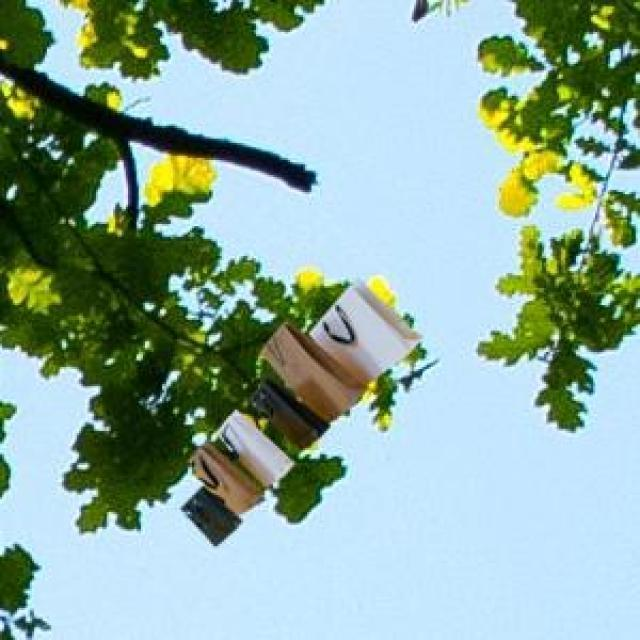paper: (177, 275, 418, 542)
